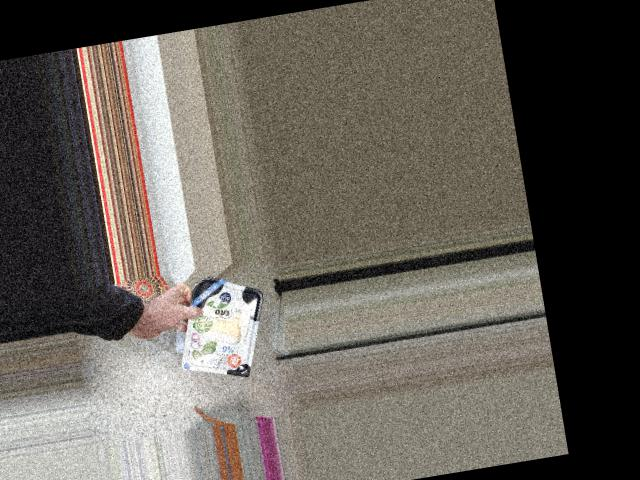cheese: (184, 277, 265, 377)
